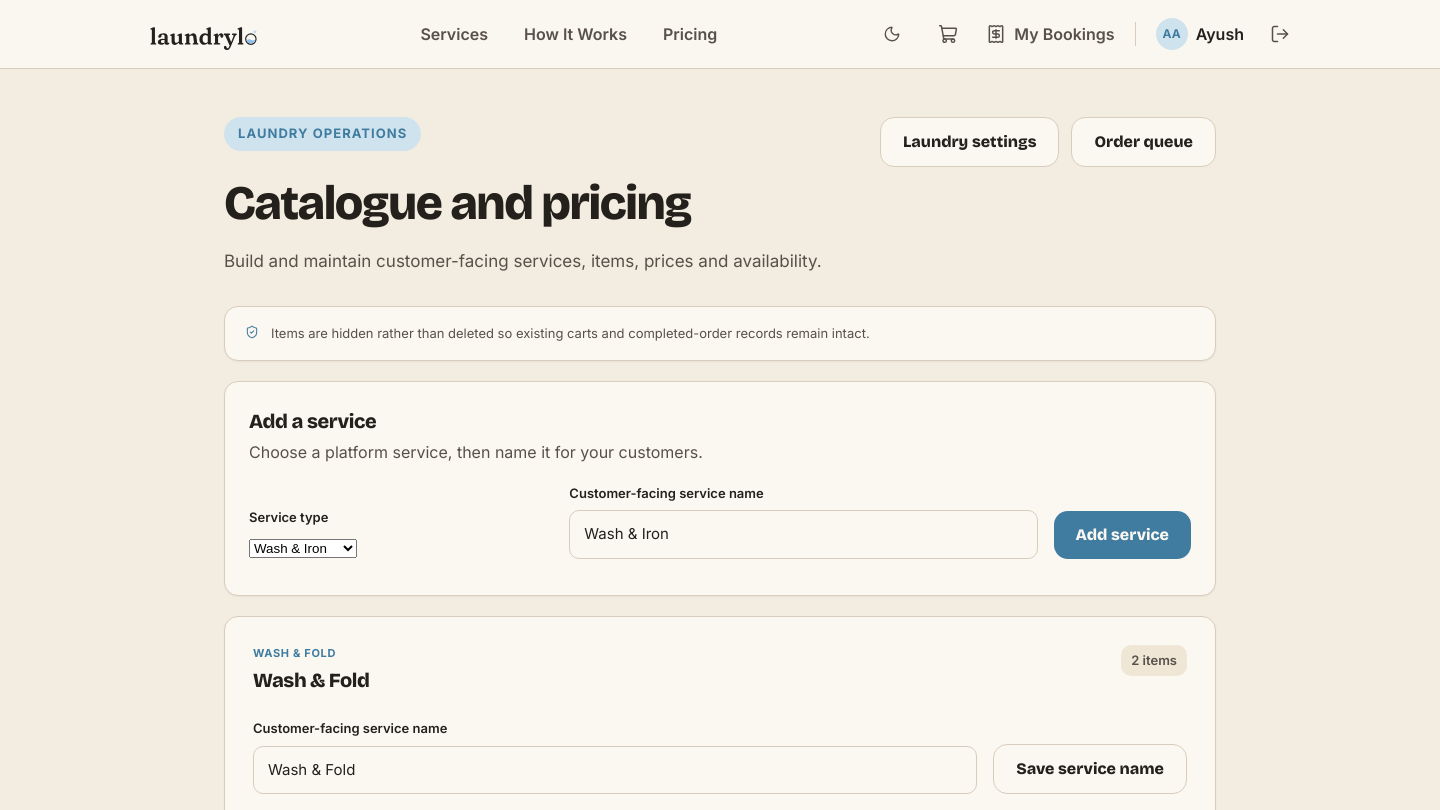
Test case: laundry-partner catalogue management › adds an unused canonical service to the catalogue
This screenshot has width=1440, height=810.
Select "Premium Care" in the dropdown labelled "Service type" at (303, 548), box [249,539,357,558]
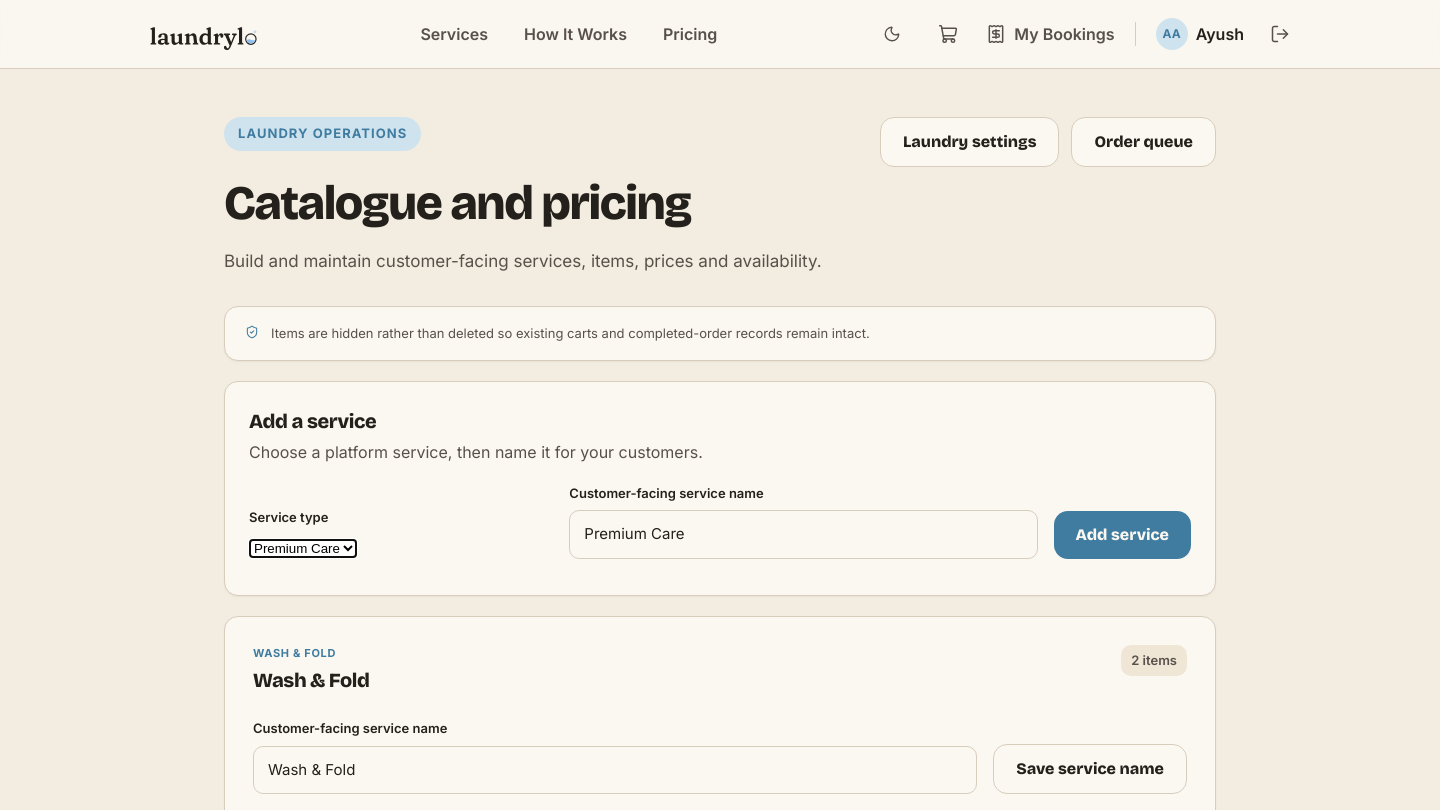
Replace the text in the field labelled "Customer-facing service name" in the row of "Service type" with "Couture Care" at (803, 535), box [569,510,1038,559]
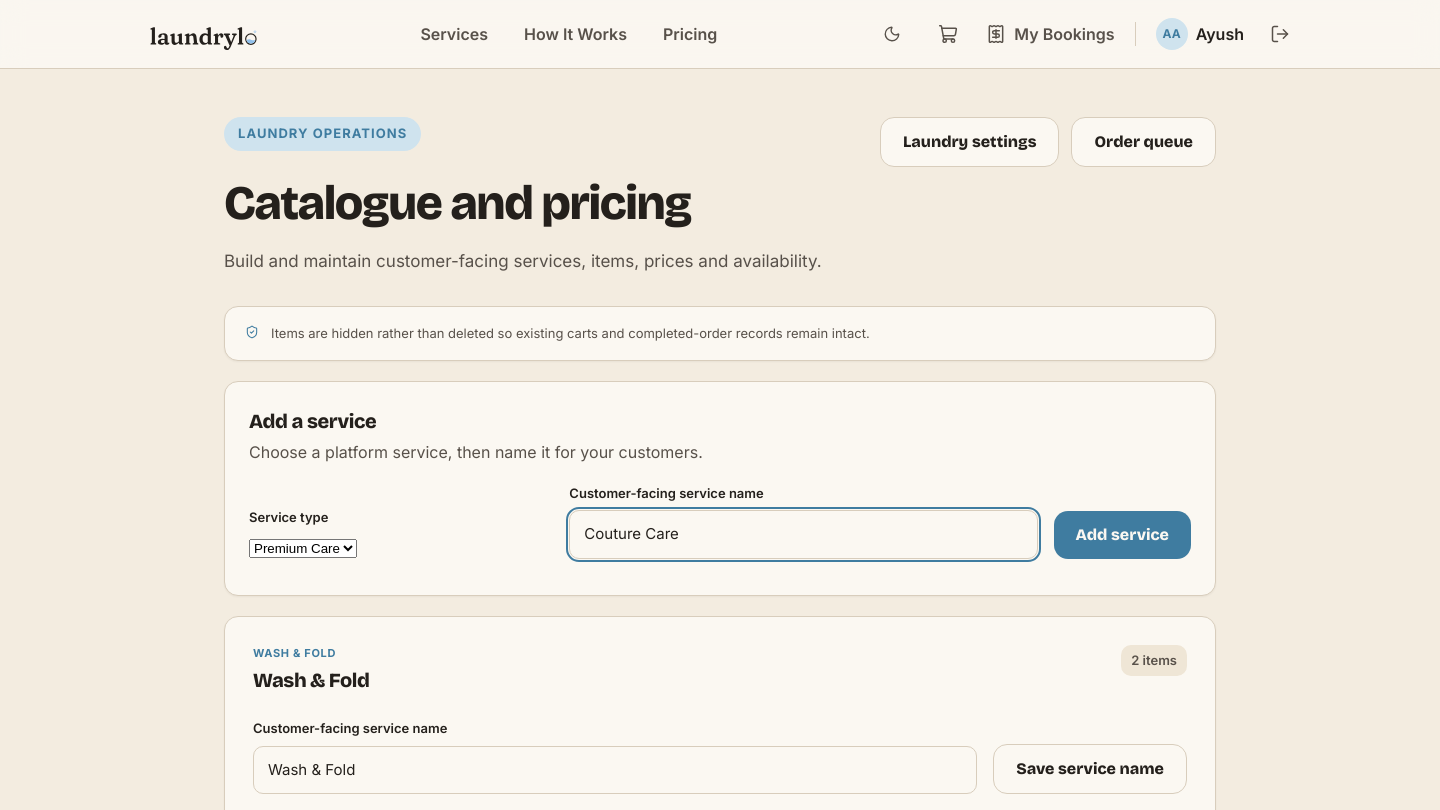
Click the button "Add service" at (1122, 535), box [1054,511,1191,559]
(page scrolled)
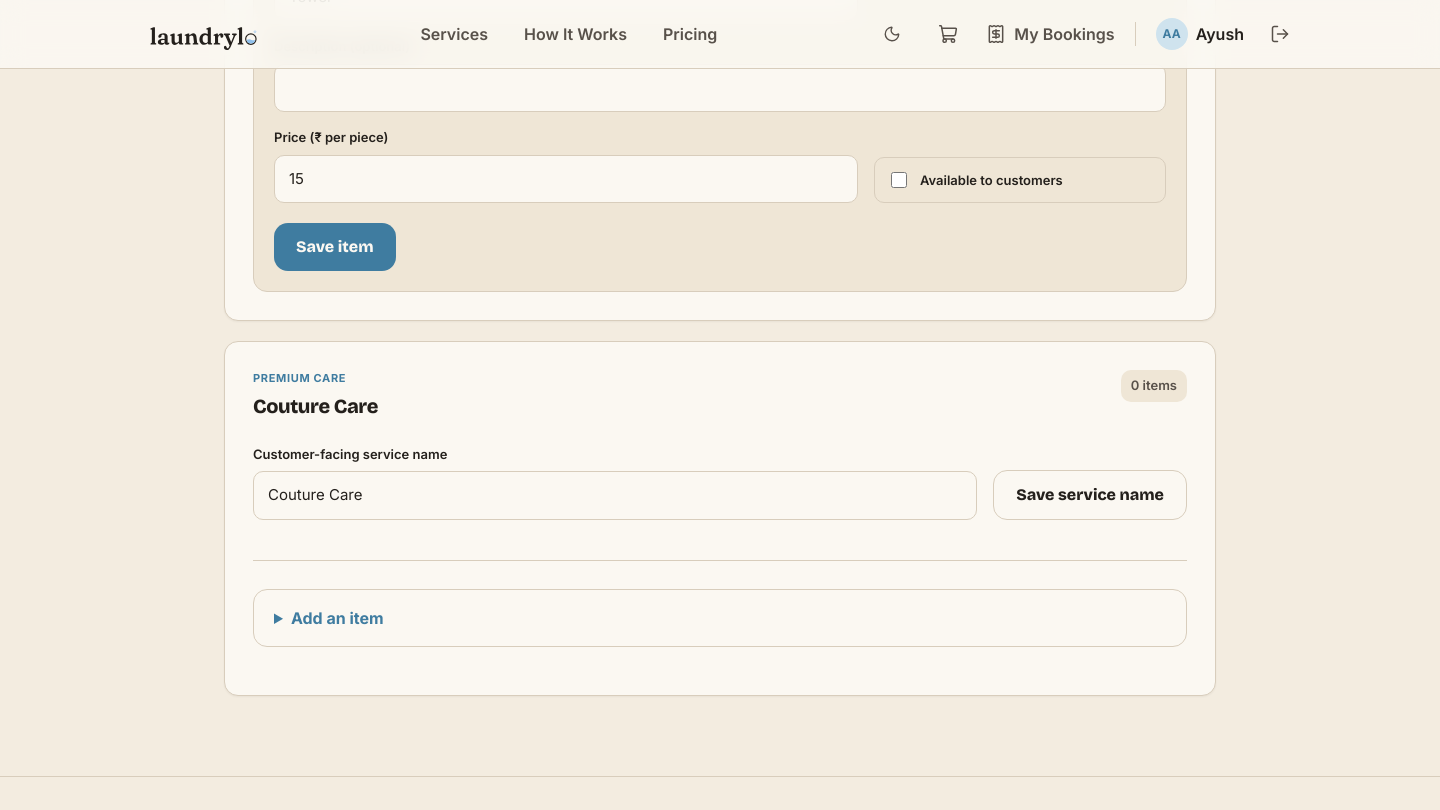
Now the heading "Couture Care" is shown, box [253,391,378,421]
